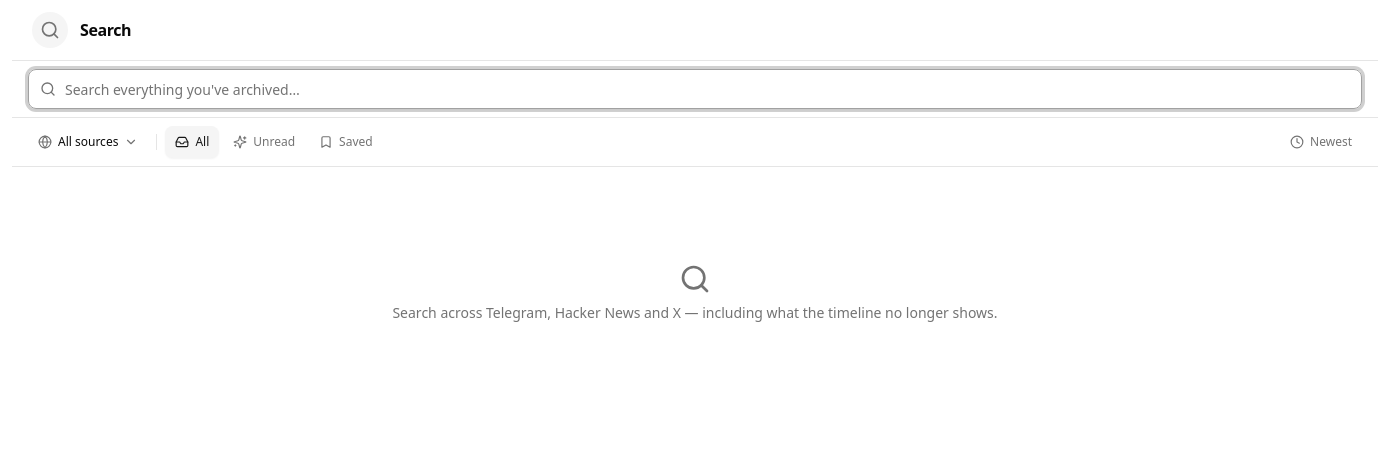
Test: SearchView › clears the box back to the prompt
Type "rust" into the field labelled "Search everything you've archived…".
click(695, 89); type("rust")  # box [28,69,1362,109]
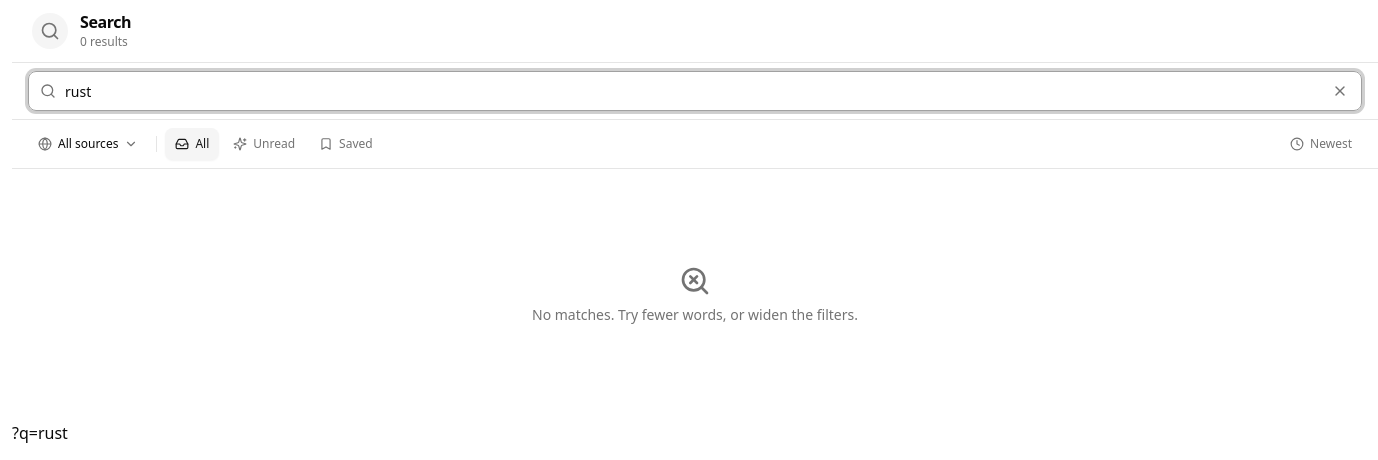
Click the button named "clear search".
click(1340, 91)  # box [1326,77,1354,105]
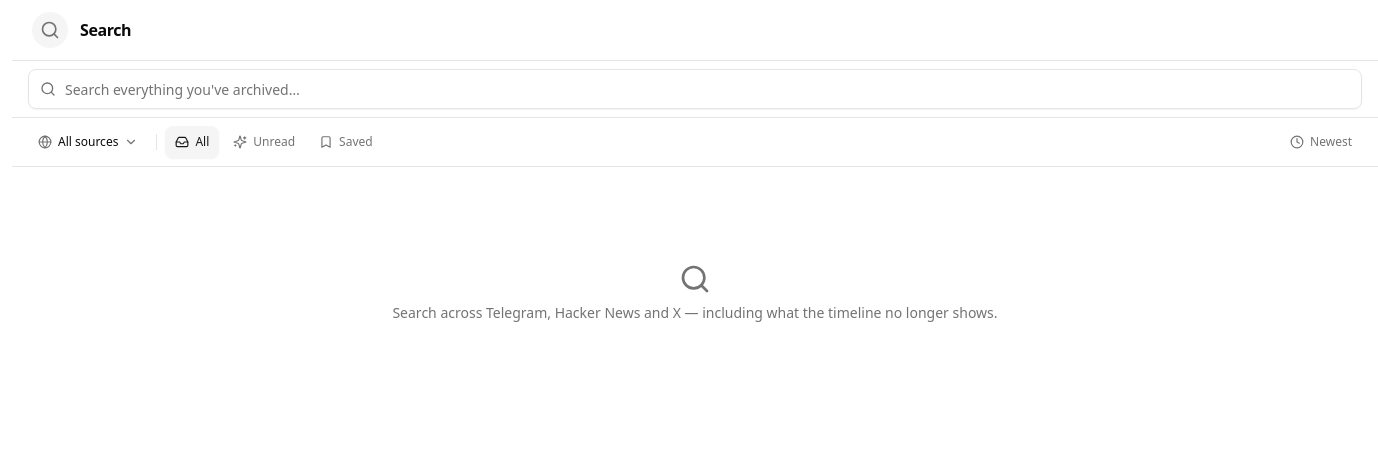
Expected: the text "Search across Telegram" is shown, [392,303,998,322]
